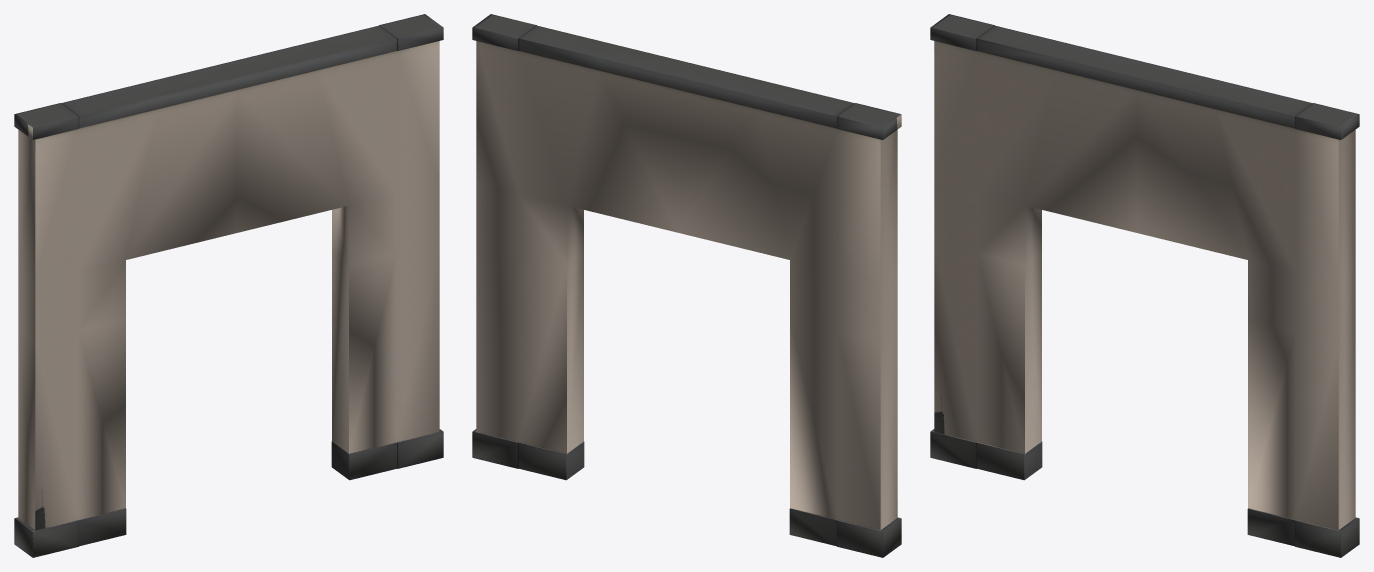
Rendered from ENV_Wall_doubleDoorFrame_v001.fbx.
3 renders of one model, left to right at view 1: azimuth 30°, elevation 25°; view 2: azimuth 150°, elevation 25°; view 3: azimuth 330°, elevation 25°, orthographic.
Parts seen in each view (by area): view 1: 큐브.001; view 2: 큐브.001; view 3: 큐브.001.
Part boxes in pixels (left/top/right/bottom): 큐브.001: left=14, top=14, right=443, bottom=557; 큐브.001: left=472, top=14, right=901, bottom=557; 큐브.001: left=930, top=14, right=1359, bottom=557.
Size of the model in its own units: 400 by 400 by 31.59.
Materials: 1 (1 with a texture image).
